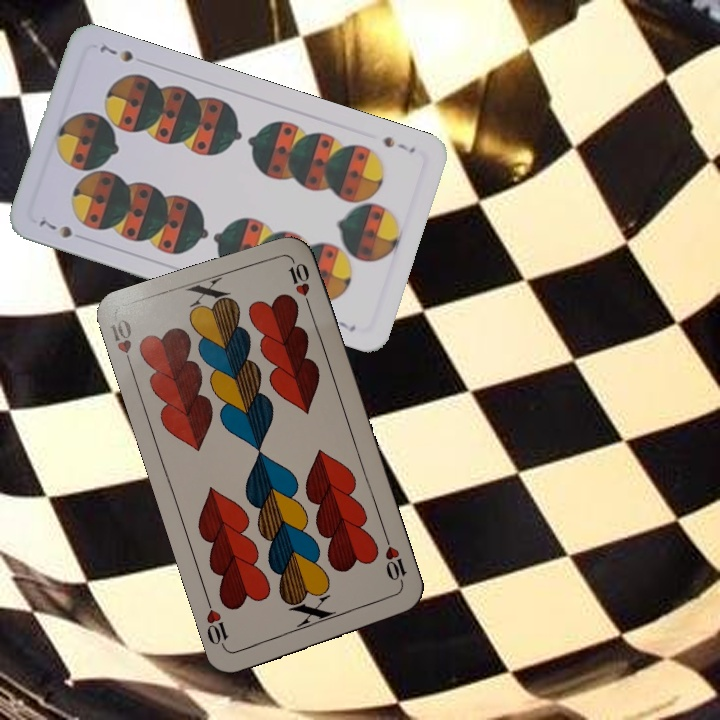H10: (106, 313, 136, 374), (381, 533, 410, 591)
S7: (35, 215, 75, 241), (378, 132, 418, 156)
